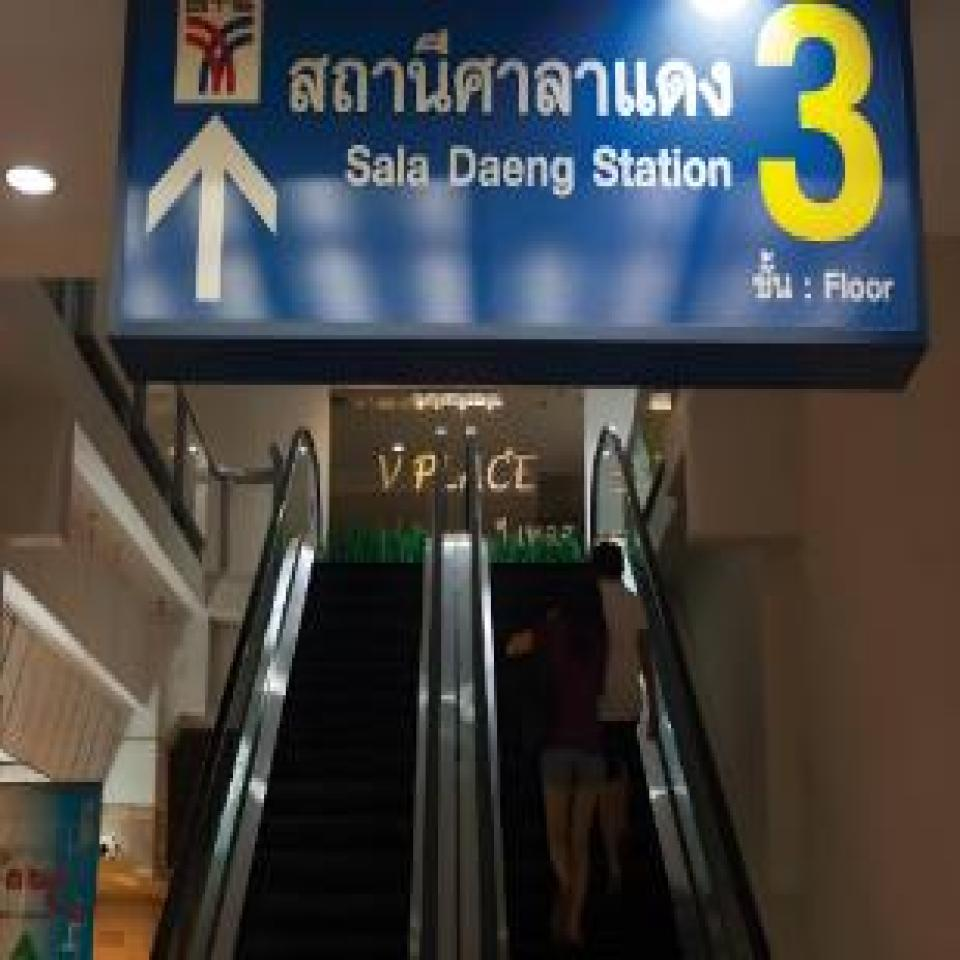signage: (176, 0, 736, 195)
